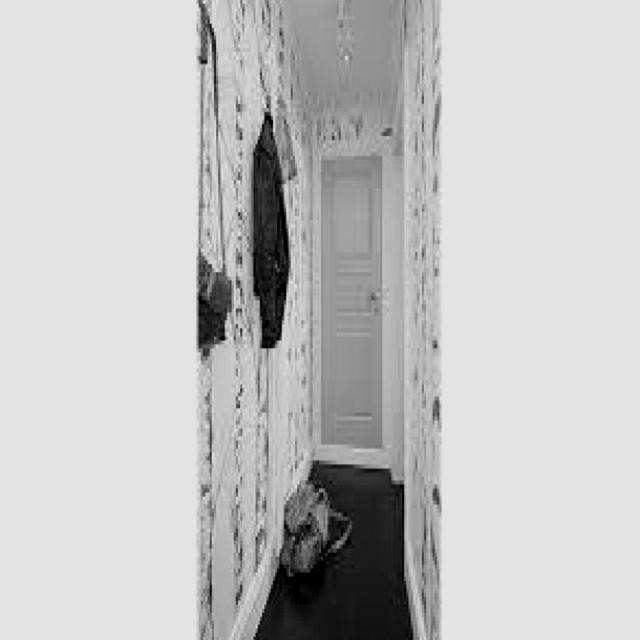door: (303, 124, 391, 490)
